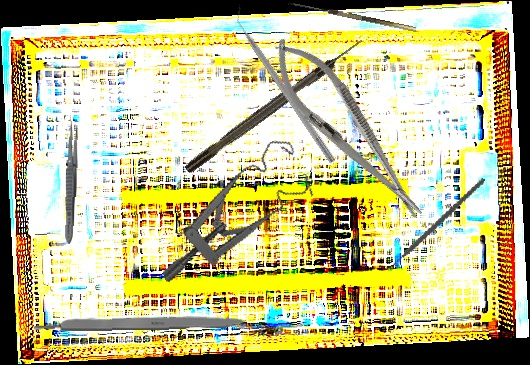Chopper: (227, 3, 345, 165), (379, 158, 486, 287)
Dressing Forceps: (62, 120, 80, 245)
Hook Surgical: (182, 36, 366, 175), (286, 0, 417, 38)
Needle Holder: (256, 26, 439, 233)
Scalpel Handle: (33, 313, 248, 332)
Speculum: (134, 134, 326, 284)
